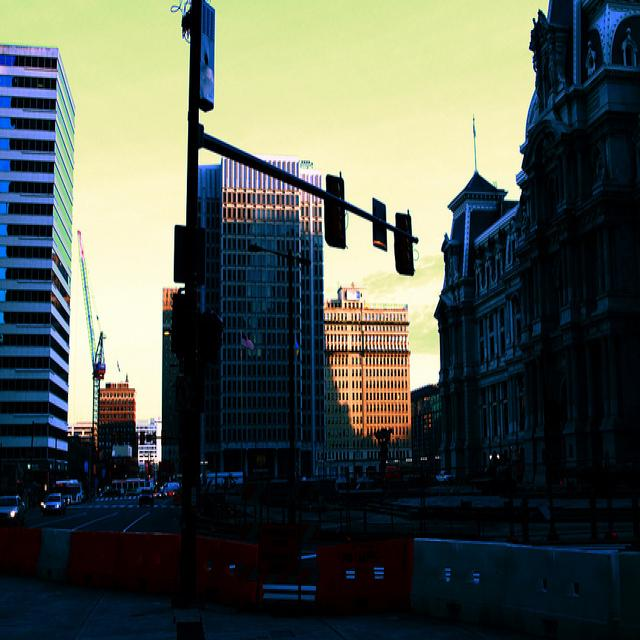Vehicle: (0, 494, 27, 526), (112, 478, 154, 496), (55, 480, 83, 503), (200, 472, 242, 486), (43, 495, 66, 513), (138, 487, 154, 509)
